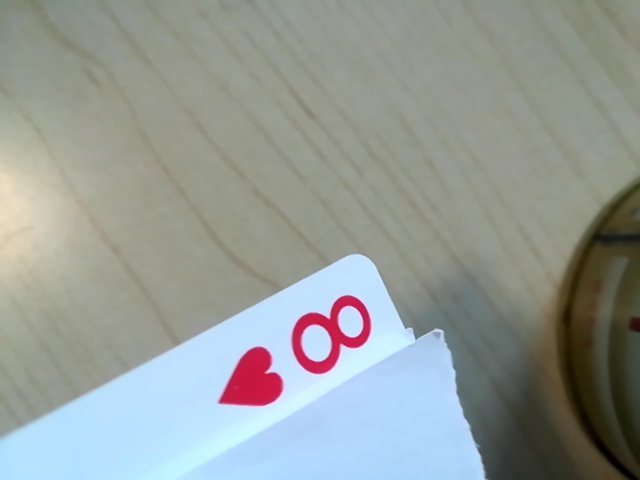hx 8: (245, 289, 390, 407)
